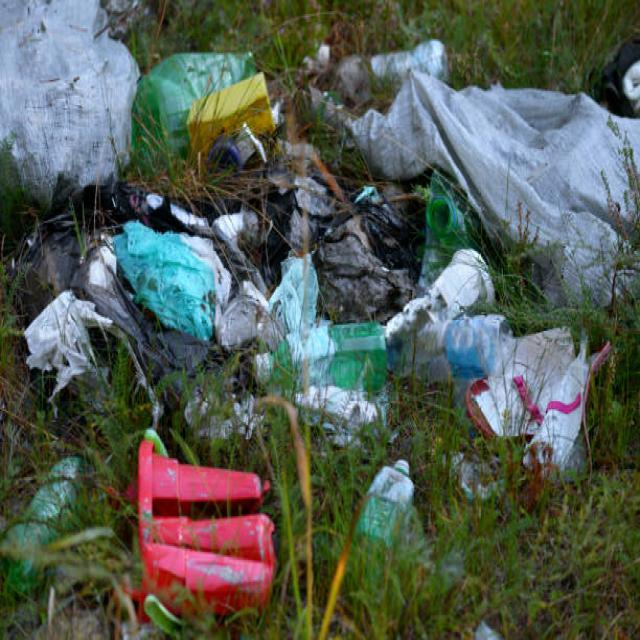plastic: (79, 201, 566, 450)
